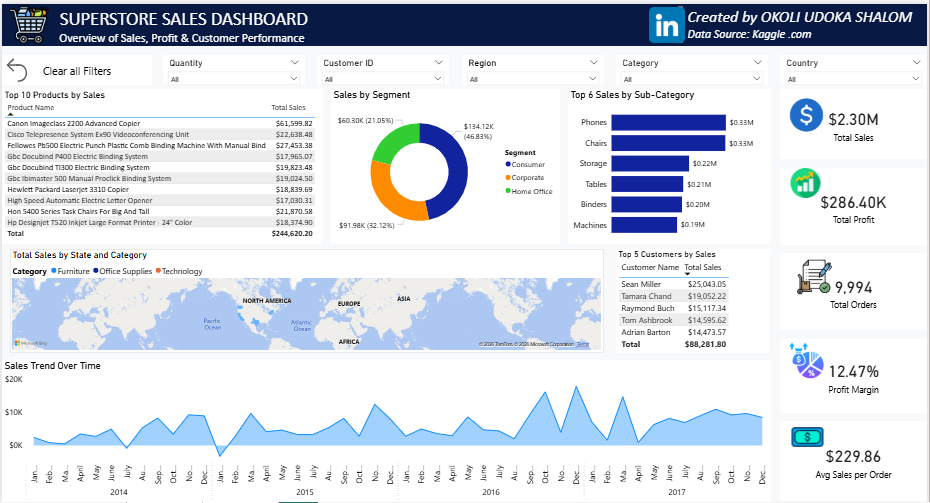

The page's visual inventory and layout, read from the dashboard file:
{"tool":"powerbi","page":{"name":"DASHBOARD","canvas":[1850,1000],"ordinal":0},"visuals":[{"type":"tableEx","title":"Top 10 Products by Sales","fields":{"Values":["Sample - Superstore.Product Name","Sample - Superstore.Total Sales"]},"box":[0,170,642,310],"z":0},{"type":"card","fields":{"Values":["Sample - Superstore.Total Revenue"]},"box":[1556,170,294,140],"z":0,"group":"g3"},{"type":"clusteredBarChart","title":"Top 6 Sales by Sub-Category","fields":{"Category":["Sample - Superstore.Sub-Category"],"Y":["Sample - Superstore.Total Sales"]},"box":[1132,170,406,310],"z":1000},{"type":"card","fields":{"Values":["Sample - Superstore.Total Profit"]},"box":[1556,327,294,154],"z":1000,"group":"g2"},{"type":"card","fields":{"Values":["Sample - Superstore.Total Orders"]},"box":[1556,498,294,154],"z":2000,"group":"g1"},{"type":"areaChart","title":"Sales Trend Over Time","fields":{"Category":["Sample - Superstore.Order Date.Variation.Date Hierarchy.Year","Sample - Superstore.Order Date.Variation.Date Hierarchy.Month"],"Y":["Sample - Superstore.Total Profit"]},"box":[0,712,1538,288],"z":2000},{"type":"donutChart","title":"Sales by Segment","fields":{"Category":["Sample - Superstore.Segment"],"Y":["Sample - Superstore.Total Profit"]},"box":[658,170,458,310],"z":3000},{"type":"card","fields":{"Values":["Sample - Superstore.Profit Margin"]},"box":[1556,669,294,148],"z":3000,"group":"g5"},{"type":"filledMap","fields":{"Category":["Sample - Superstore.State"],"Series":["Sample - Superstore.Category"]},"box":[16,490,1188,208],"z":4000},{"type":"card","fields":{"Values":["Sample - Superstore.Avg Sales per Order"]},"box":[1556,834,294,160],"z":4000,"group":"g4"},{"type":"slicer","fields":{"Values":["Sample - Superstore.Quantity"]},"box":[322,102,284,60],"z":5000},{"type":"tableEx","title":"Top 5 Customers by Sales","fields":{"Values":["Sample - Superstore.Customer Name","Sample - Superstore.Total Sales"]},"box":[1228,490,308,208],"z":6000},{"type":"slicer","fields":{"Values":["Sample - Superstore.Country"]},"box":[1556,102,294,60],"z":7000},{"type":"slicer","fields":{"Values":["Sample - Superstore.Customer ID"]},"box":[630.5,102,264,60],"z":8000},{"type":"slicer","fields":{"Values":["Sample - Superstore.Region"]},"box":[919,102,284,60],"z":9000},{"type":"slicer","fields":{"Values":["Sample - Superstore.Category"]},"box":[1227.5,102,304,60],"z":10000},{"type":"actionButton","box":[0,102,300,60],"z":11000},{"type":"textbox","box":[0,0,1366,84],"z":12000},{"type":"textbox","box":[1366,0,484,84],"z":13000},{"type":"group","id":"g1","title":"Group 3","box":[1556,498,294,154],"z":14000},{"type":"group","id":"g2","title":"Group 4","box":[1556,327,294,154],"z":15000},{"type":"group","id":"g3","title":"Group 5","box":[1556,170,294,140],"z":16000},{"type":"group","id":"g4","title":"Group 6","box":[1556,834,294,160],"z":17000},{"type":"image","box":[1572,182,74,80],"z":17002,"group":"g3"},{"type":"image","box":[1570,327,74,60],"z":17003,"group":"g2"},{"type":"image","box":[1588,508,74,76],"z":17004,"group":"g1"},{"type":"image","box":[1572,669,74,86],"z":17005,"group":"g5"},{"type":"image","box":[1572,834,78,64],"z":17006,"group":"g4"},{"type":"group","id":"g5","title":"Group 7","box":[1556,669,294,148],"z":18000},{"type":"image","box":[0,0,108,84],"z":19000},{"type":"image","box":[1294,0,72,84],"z":20000}]}

Visuals, with their boxes in screenshot pixels (x1, y1, x2, y2), scaled from the page's 1850x1000 canvas onto the 930x503 screenshot:
"Top 10 Products by Sales" tableEx: <bbox>0, 86, 323, 241</bbox>
card - Sample - Superstore.Total Revenue: <bbox>782, 86, 929, 156</bbox>
"Top 6 Sales by Sub-Category" clusteredBarChart: <bbox>569, 86, 773, 241</bbox>
card - Sample - Superstore.Total Profit: <bbox>782, 164, 929, 242</bbox>
card - Sample - Superstore.Total Orders: <bbox>782, 250, 929, 328</bbox>
"Sales Trend Over Time" areaChart: <bbox>0, 358, 773, 502</bbox>
"Sales by Segment" donutChart: <bbox>331, 86, 561, 241</bbox>
card - Sample - Superstore.Profit Margin: <bbox>782, 337, 929, 411</bbox>
filledMap - Sample - Superstore.State x Sample - Superstore.Category: <bbox>8, 246, 605, 351</bbox>
card - Sample - Superstore.Avg Sales per Order: <bbox>782, 420, 929, 500</bbox>
slicer - Sample - Superstore.Quantity: <bbox>162, 51, 305, 81</bbox>
"Top 5 Customers by Sales" tableEx: <bbox>617, 246, 772, 351</bbox>
slicer - Sample - Superstore.Country: <bbox>782, 51, 929, 81</bbox>
slicer - Sample - Superstore.Customer ID: <bbox>317, 51, 450, 81</bbox>
slicer - Sample - Superstore.Region: <bbox>462, 51, 605, 81</bbox>
slicer - Sample - Superstore.Category: <bbox>617, 51, 770, 81</bbox>
actionButton: <bbox>0, 51, 151, 81</bbox>
textbox: <bbox>0, 0, 687, 42</bbox>
textbox: <bbox>687, 0, 929, 42</bbox>
"Group 3" group: <bbox>782, 250, 929, 328</bbox>
"Group 4" group: <bbox>782, 164, 929, 242</bbox>
"Group 5" group: <bbox>782, 86, 929, 156</bbox>
"Group 6" group: <bbox>782, 420, 929, 500</bbox>
image: <bbox>790, 92, 827, 132</bbox>
image: <bbox>789, 164, 826, 195</bbox>
image: <bbox>798, 256, 835, 294</bbox>
image: <bbox>790, 337, 827, 380</bbox>
image: <bbox>790, 420, 829, 452</bbox>
"Group 7" group: <bbox>782, 337, 929, 411</bbox>
image: <bbox>0, 0, 54, 42</bbox>
image: <bbox>650, 0, 687, 42</bbox>
